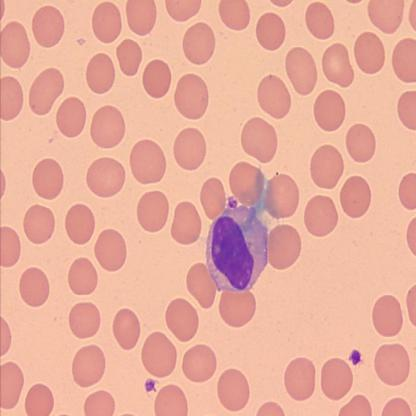Atypical lymphocyte: (204, 164, 280, 300)
